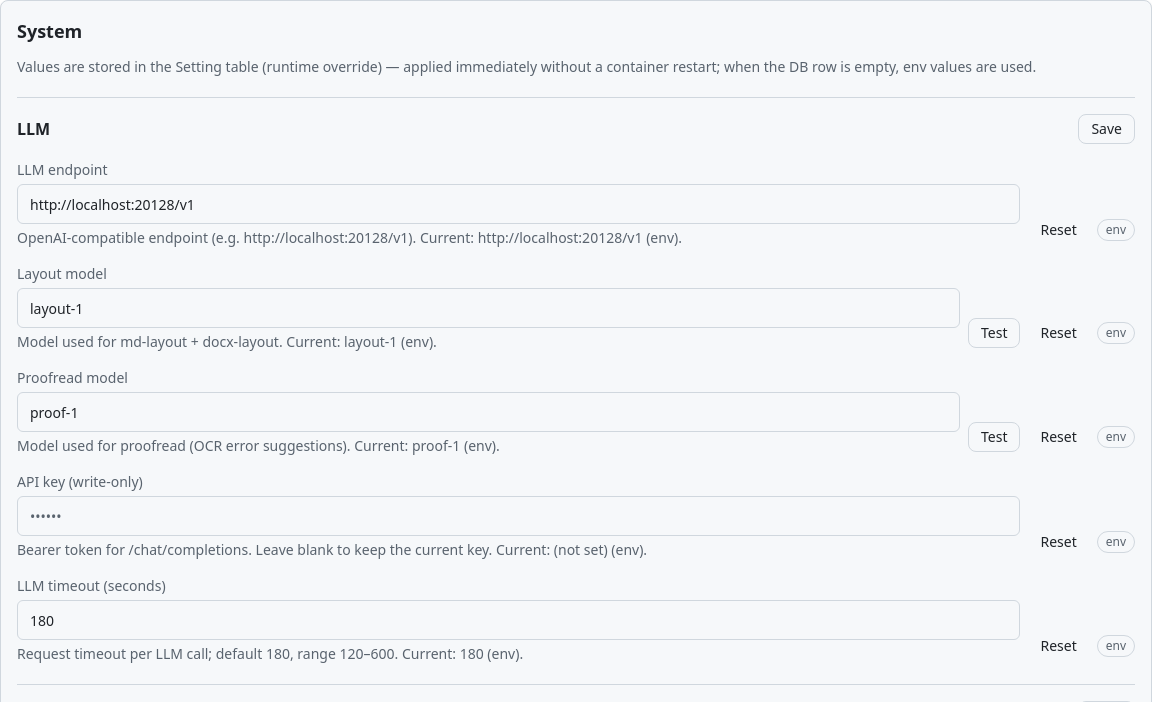
Test: Test model: ok → badge Sống + latency; fail → badge Chết
This screenshot has width=1152, height=702.
Click the button with test id "test-proofread-llm-model". click: (994,437)
box: 968,422 -> 1020,452
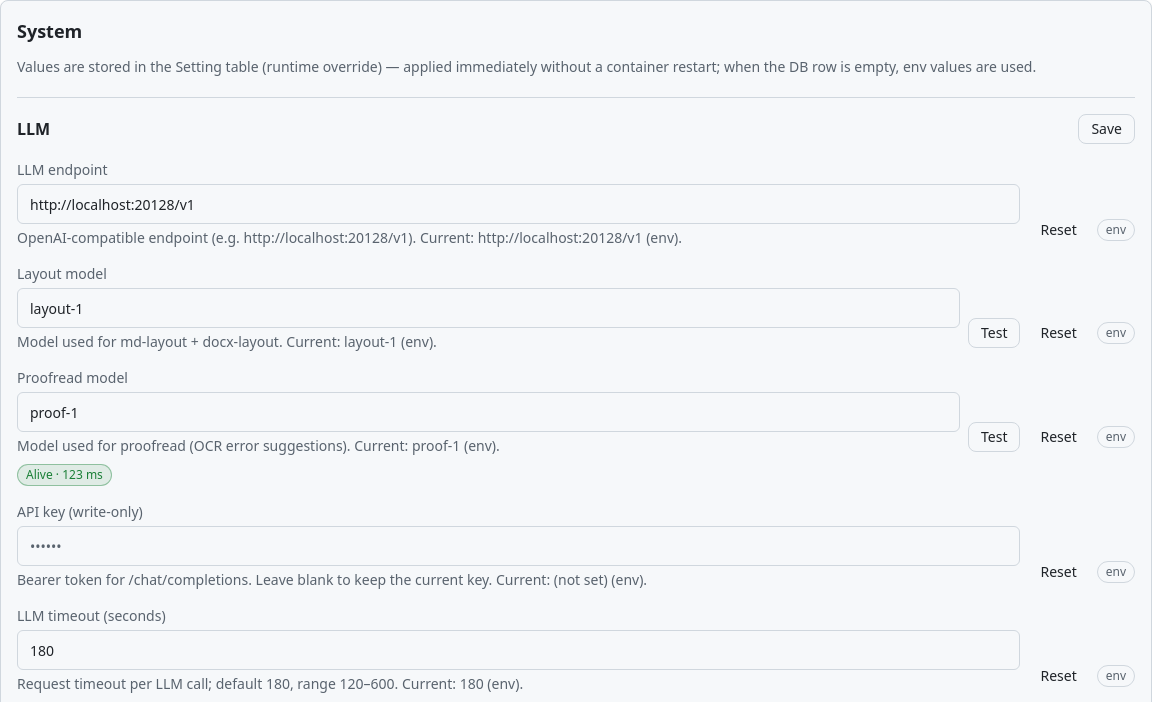
Expected: the element with test id "test-result-proofread-llm-model" reads "Alive · 123 ms", 26,466 -> 103,483
Click the button with test id "test-proofread-llm-model". click: (994,437)
box: 968,422 -> 1020,452
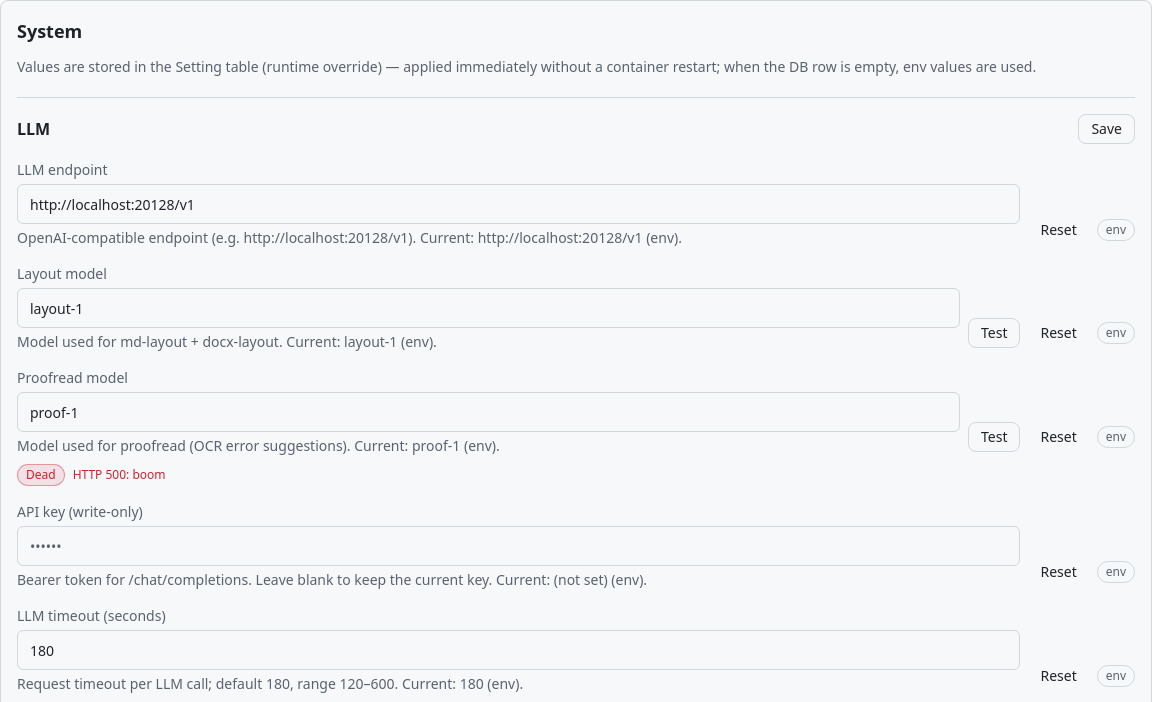
Expected: the element with test id "test-result-proofread-llm-model" shows "Dead", 26,466 -> 56,483
Expected: the element with test id "test-result-proofread-llm-model" shows "HTTP 500", 73,466 -> 166,483
